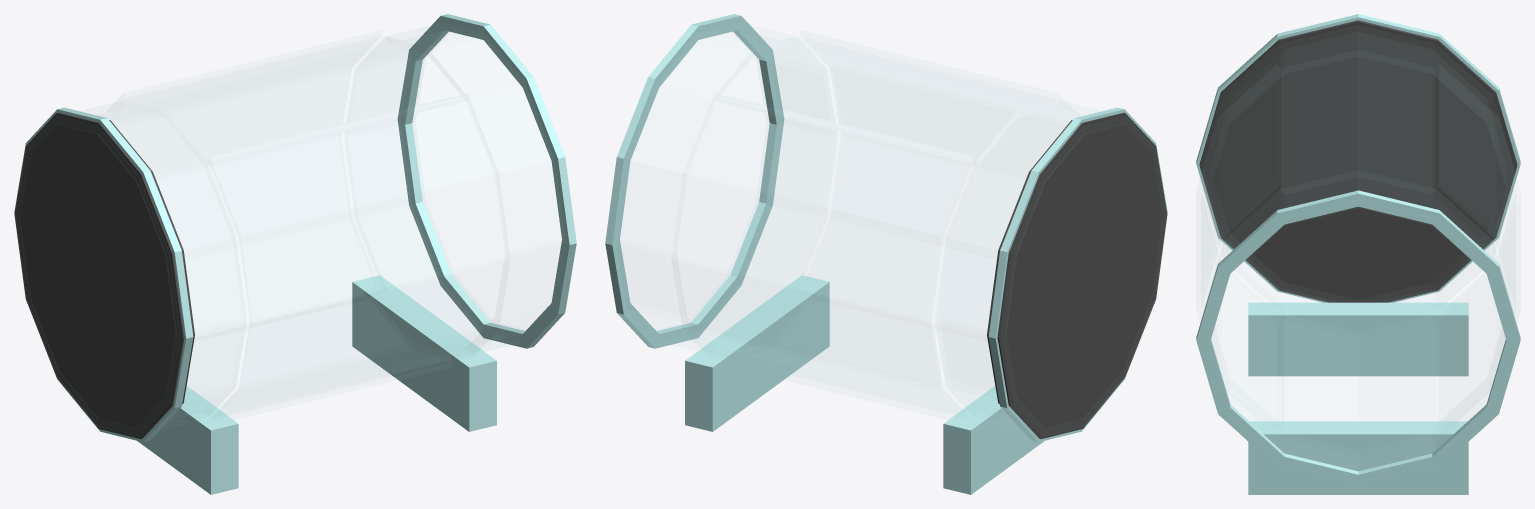
File: tube_terminus.glb
3 views of the same model, side by side, from view 1: azimuth 30°, elevation 25°; view 2: azimuth 150°, elevation 25°; view 3: azimuth 270°, elevation 25° (orthographic). The views are drawn at different scales.
Parts seen in each view (by area): view 1: Terminal_End_Cap, Station_Supports, End_Rim_0, End_Rim_-0; view 2: Terminal_End_Cap, Station_Supports, End_Rim_0, End_Rim_-0; view 3: Terminal_End_Cap, Station_Supports, End_Rim_0, End_Rim_-0, Boarding_Door_back, Boarding_Door_front.
Boxes of the visible parts, <box> form: Terminal_End_Cap: <box>14,112,194,438</box>; Station_Supports: <box>137,275,496,494</box>; End_Rim_0: <box>397,14,576,348</box>; End_Rim_-0: <box>14,107,193,442</box>; Terminal_End_Cap: <box>987,112,1167,438</box>; Station_Supports: <box>685,275,1044,494</box>; End_Rim_0: <box>605,14,784,348</box>; End_Rim_-0: <box>988,107,1167,442</box>; Terminal_End_Cap: <box>1199,20,1517,302</box>; Station_Supports: <box>1248,302,1468,494</box>; End_Rim_0: <box>1196,190,1520,487</box>; End_Rim_-0: <box>1196,14,1520,302</box>; Boarding_Door_back: <box>1499,194,1515,306</box>; Boarding_Door_front: <box>1201,194,1217,306</box>.
Bounding box in the file's own units: 2 × 1.66 × 1.5.
Materials: 7 (7 with a texture image).
